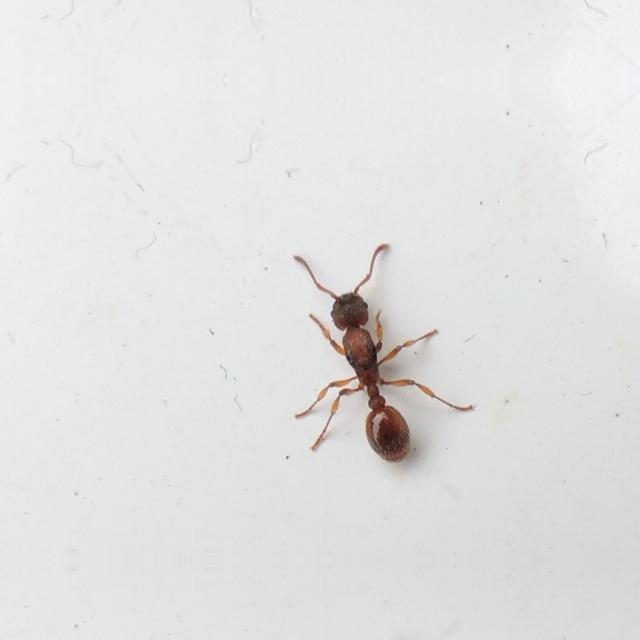Myrmica: (315, 253, 431, 463)
